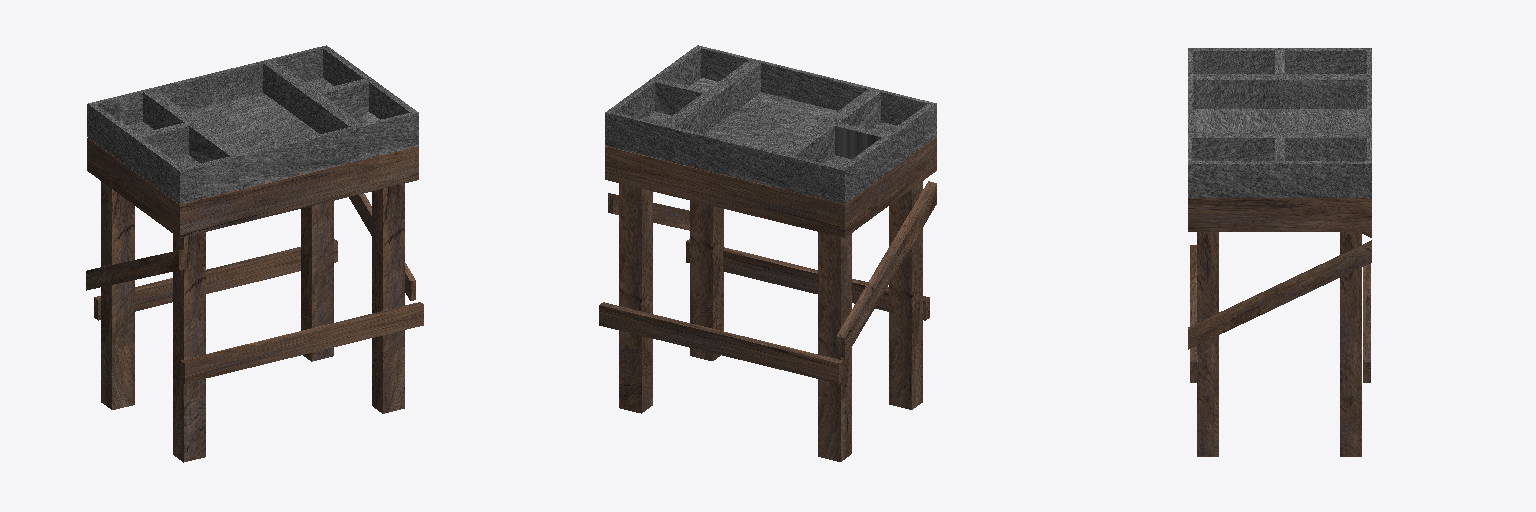
3 renders of one model, left to right at view 1: azimuth 30°, elevation 25°; view 2: azimuth 150°, elevation 25°; view 3: azimuth 270°, elevation 25°, orthographic.
Parts seen in each view (by area): view 1: Cube.012; view 2: Cube.012; view 3: Cube.012.
Part boxes in pixels (x1,y1,x2,y2): Cube.012: (86,45,423,462); Cube.012: (599,45,936,461); Cube.012: (1188,48,1371,456).
Bounding box in the file's own units: 3.09 × 3.56 × 2.
Materials: 2 (2 with a texture image).